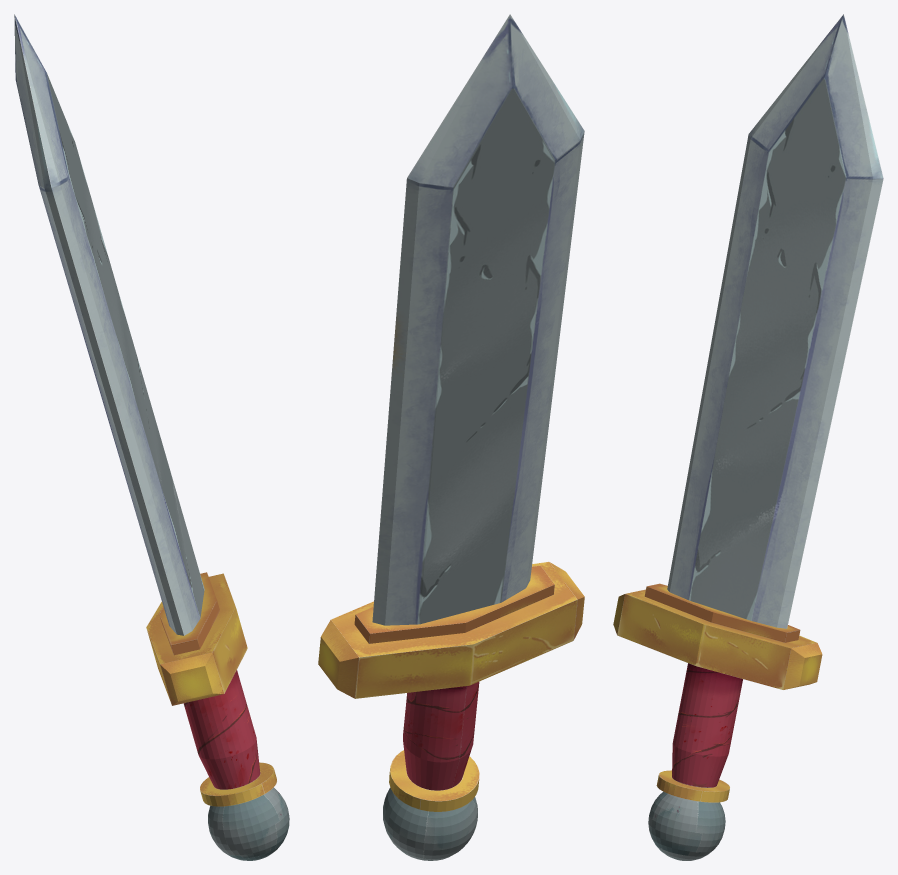
File: espada_grande.glb
3 renders of one model, left to right at view 1: azimuth 30°, elevation 25°; view 2: azimuth 150°, elevation 25°; view 3: azimuth 270°, elevation 25°, orthographic. The views are drawn at different scales.
Parts seen in each view (by area): view 1: Object_3, Object_2; view 2: Object_3, Object_2; view 3: Object_3, Object_2.
Boxes of the visible parts, bbox=[...] form: Object_3: bbox=[14, 14, 204, 635]; Object_2: bbox=[146, 572, 289, 860]; Object_3: bbox=[372, 14, 584, 625]; Object_2: bbox=[318, 561, 584, 860]; Object_3: bbox=[667, 14, 883, 628]; Object_2: bbox=[613, 583, 822, 860].
Bounding box in the file's own units: 0.6436 × 2.47 × 0.7816.
2 materials, 2 textured.
